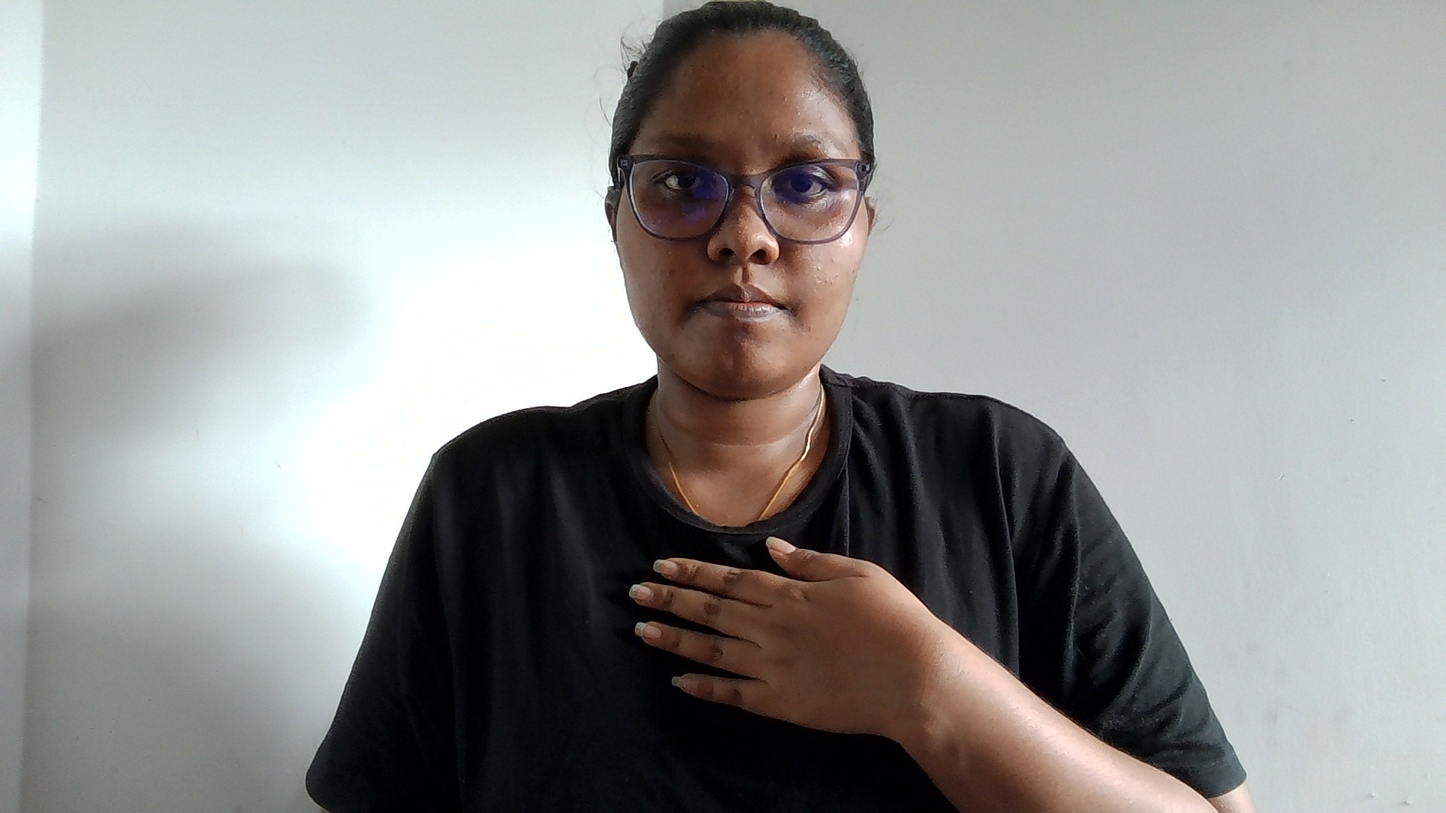Please: (555, 484, 1173, 813)
